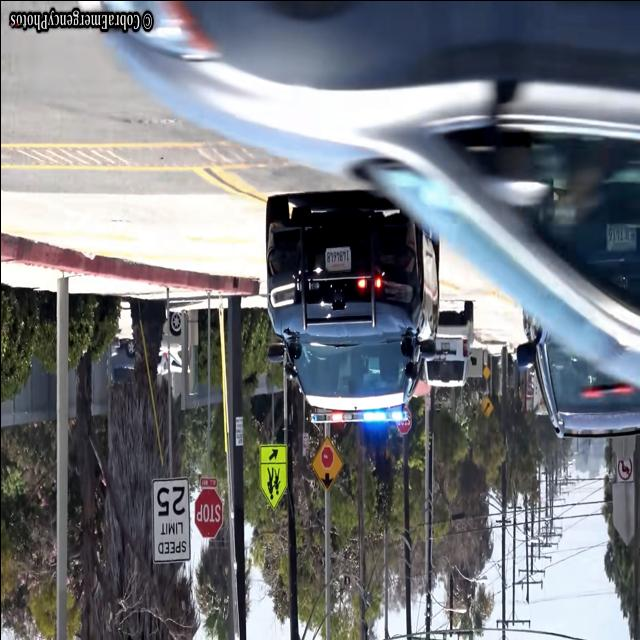emergency-vehicles: (235, 180, 458, 433)
